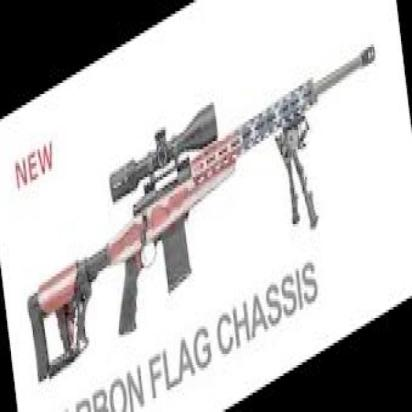Gun: (28, 46, 375, 380)
